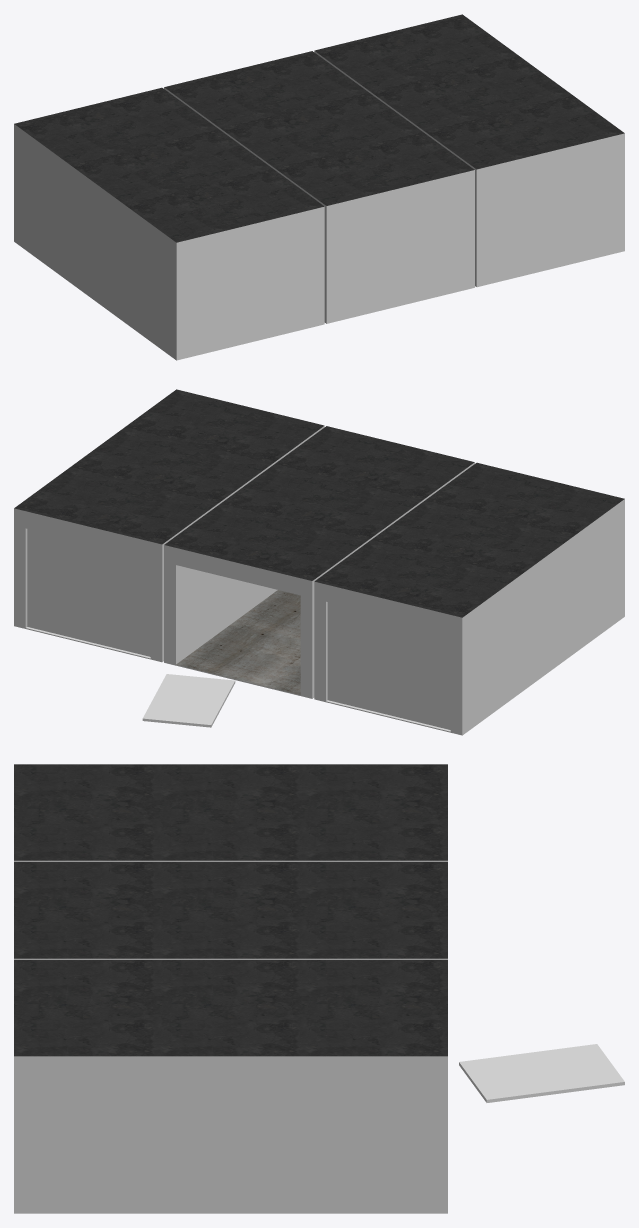
The model's file is S1U_GarageRow.fbx.
3 renders of one model, top to bottom at view 1: azimuth 30°, elevation 25°; view 2: azimuth 150°, elevation 25°; view 3: azimuth 270°, elevation 25°, orthographic. The views are drawn at different scales.
Parts seen in each view (by area): view 1: S1U_GarageRow; view 2: S1U_GarageRow; view 3: S1U_GarageRow.
Boxes of the visible parts, x1=… form: S1U_GarageRow: x1=14, y1=14, x2=624, y2=360; S1U_GarageRow: x1=14, y1=389, x2=624, y2=735; S1U_GarageRow: x1=14, y1=764, x2=624, y2=1213.
Size of the model in its own units: 9.56 by 2.4 by 8.45.
